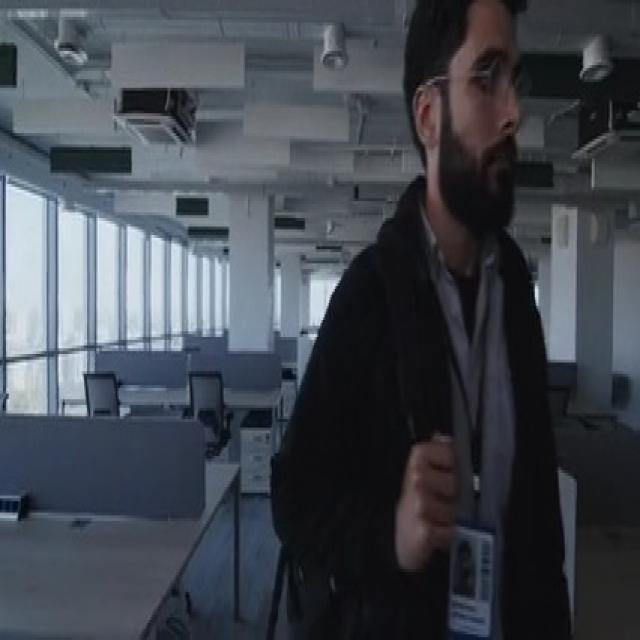Jacket_Wearer: (276, 174, 564, 640)
Person: (267, 0, 568, 640)
